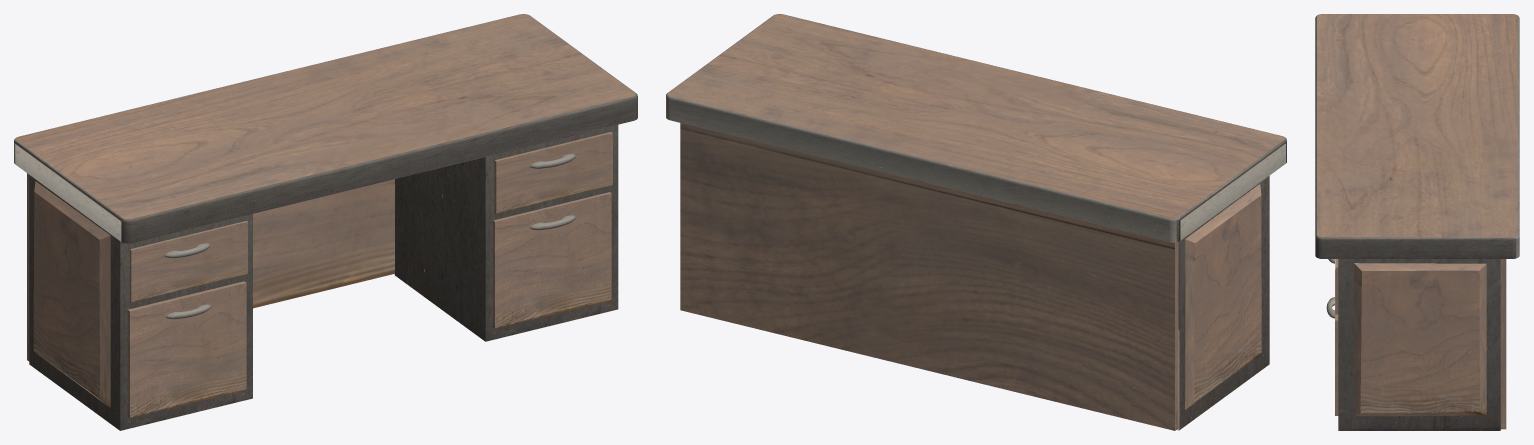
File: teach_desk.fbx
3 views of the same model, side by side, from view 1: azimuth 30°, elevation 25°; view 2: azimuth 150°, elevation 25°; view 3: azimuth 270°, elevation 25° (orthographic). The views are drawn at different scales.
Visible parts, largest first — view 1: table_top, pCube4, back_wall, left_fancy_side, left_lower_drawer, right_lower_drawer, pCube3, right_upper_drawer, left_uppper_drawer; view 2: back_wall, table_top, left_fancy_side, pCube3; view 3: table_top, left_fancy_side1, pCube4, back_wall, right_lower_drawer, right_upper_drawer.
Part boxes in pixels (box(x1,y1,x2,y2)): table_top: box(14, 14, 637, 243); pCube4: box(394, 125, 618, 341); back_wall: box(27, 173, 394, 361); left_fancy_side: box(33, 181, 110, 407); left_lower_drawer: box(127, 281, 246, 417); right_lower_drawer: box(493, 192, 611, 328); pCube3: box(29, 175, 252, 430); right_upper_drawer: box(494, 132, 612, 213); left_uppper_drawer: box(130, 221, 247, 302); back_wall: box(680, 123, 1178, 430); table_top: box(666, 14, 1286, 242); left_fancy_side: box(1185, 184, 1261, 409); pCube3: box(1177, 176, 1269, 430); table_top: box(1315, 14, 1519, 258); left_fancy_side1: box(1353, 263, 1486, 416); pCube4: box(1338, 259, 1500, 430); back_wall: box(1500, 259, 1506, 429); right_lower_drawer: box(1335, 270, 1338, 415); right_upper_drawer: box(1335, 259, 1338, 314).
Size of the model in its own units: 167 by 68.27 by 64.12.
2 materials, 2 textured.
